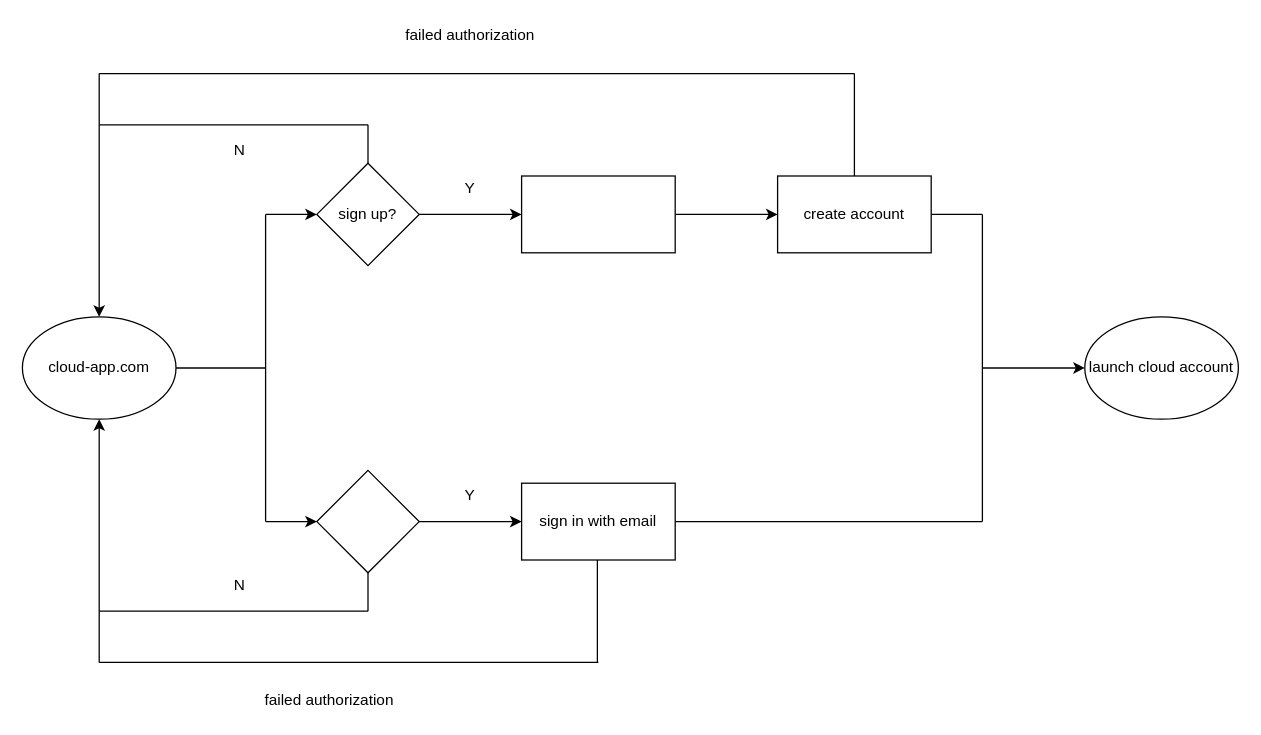
The diagram is 1261 pixels wide and 735 high, and some of its shapes have lost their labels. Each missing label, with the box of its shape:
enter name, email, password: (520, 175, 675, 253)
sign in?: (316, 469, 419, 573)
